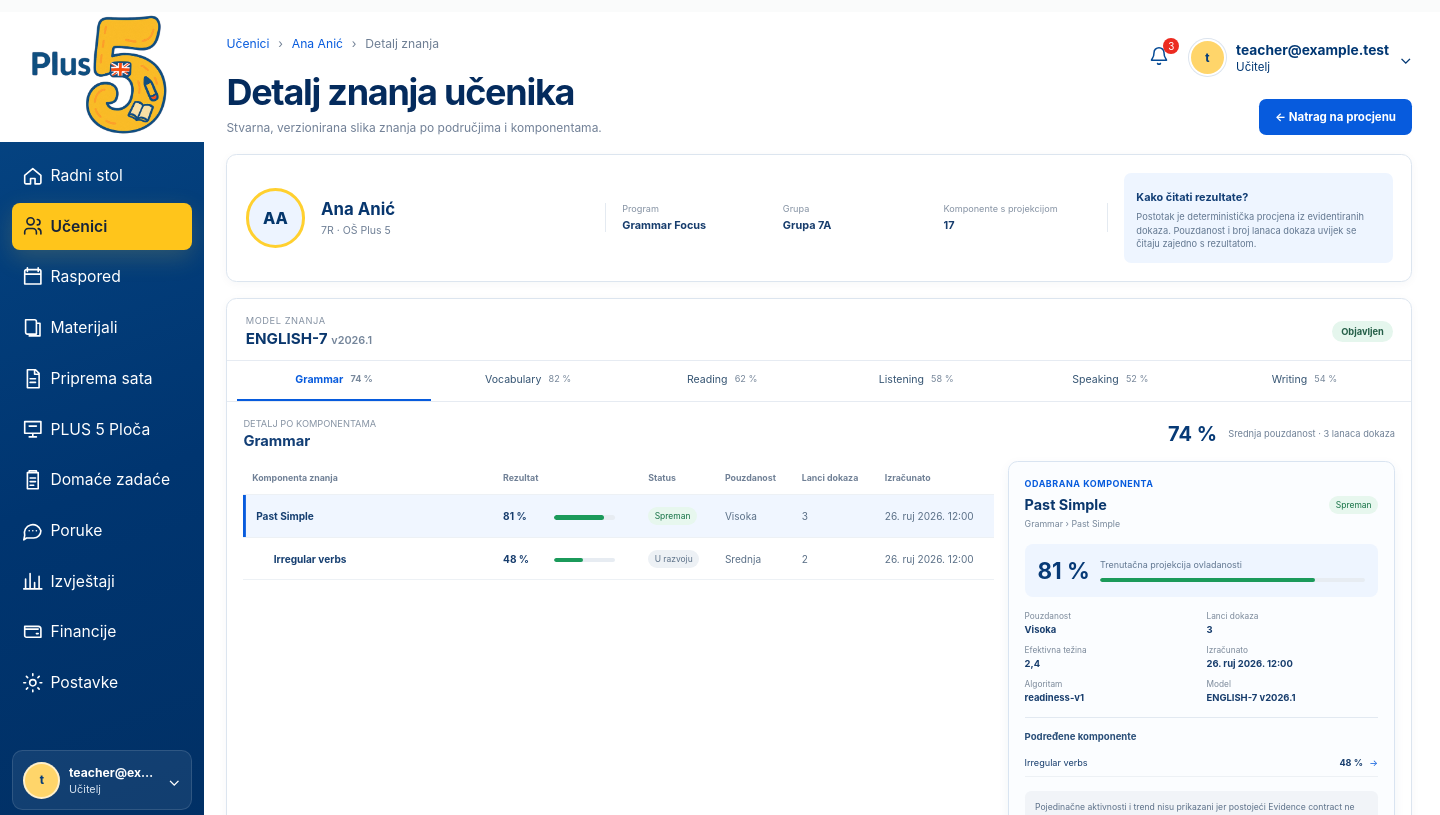
Test: student knowledge detail › keeps Listening skills distinct and does not invent audio context metadata
Expected: the heading "Detalj znanja učenika" is shown, [226,70,602,114]
Click the tab "Listening 58 %". click: (916, 381)
box: [819,361,1013,401]
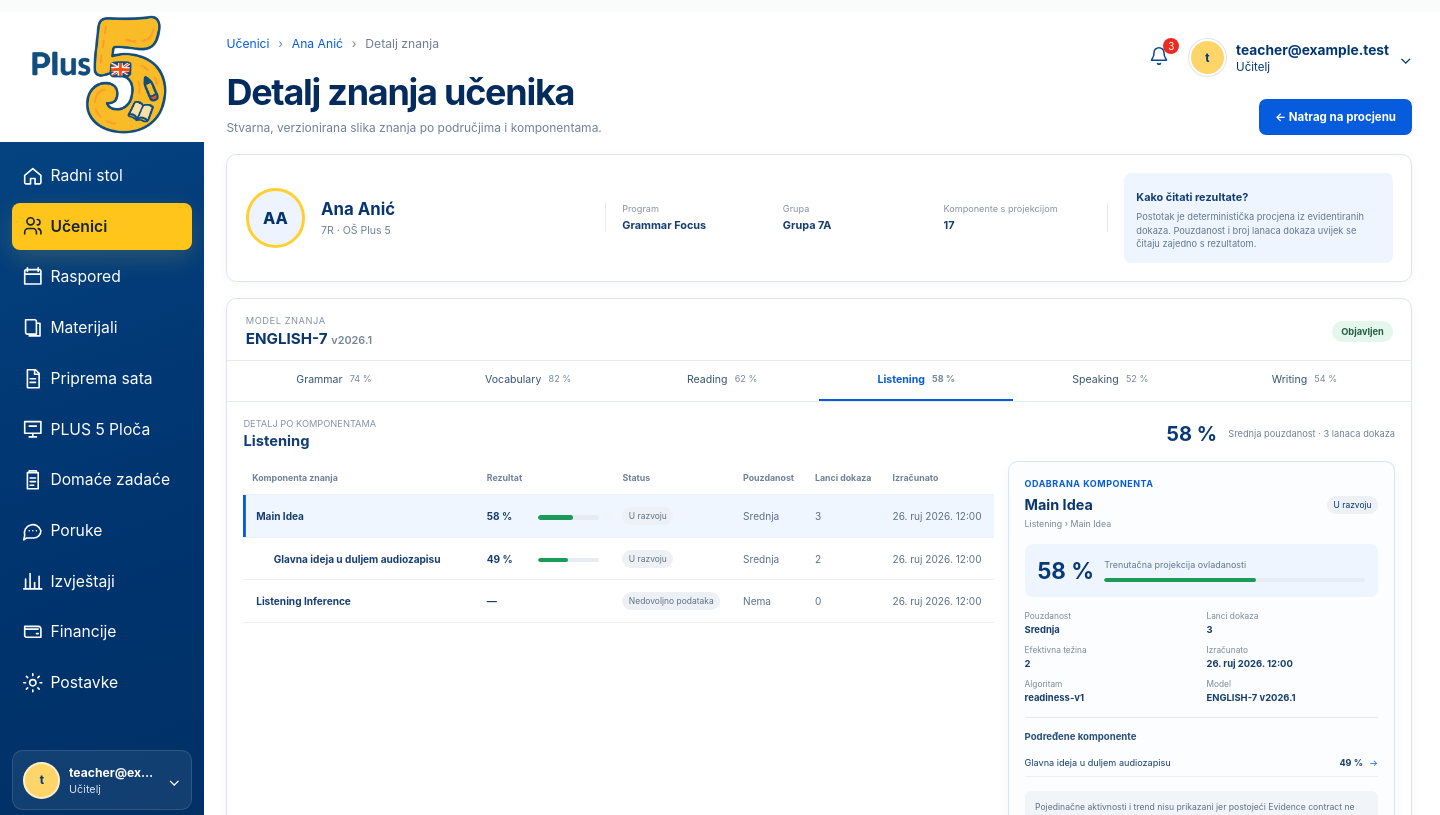
Now the heading "Main Idea" is shown, box [1025,496,1093,513]
Now the text "Listening › Main Idea" is shown, box [1025,518,1111,530]
Click the button "Glavna ideja u duljem audiozapisu 49 % →". click: (1098, 763)
box: [1025,749,1378,777]
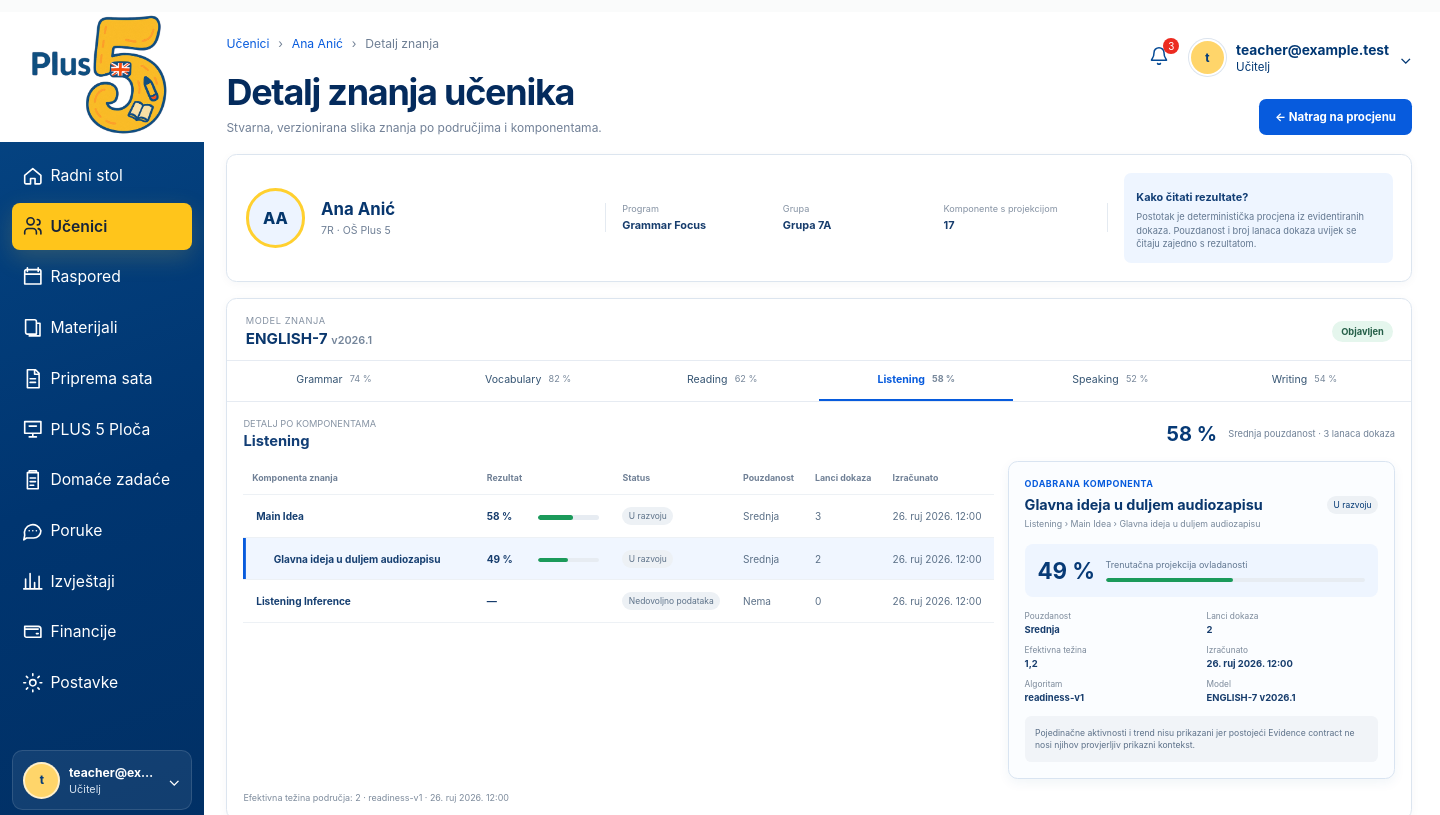
Now the text "Listening › Main Idea › Glavna ideja u duljem audiozapisu" is shown, box [1025,518,1263,530]
Click the button "Listening Inference". click: (304, 601)
box: [252,592,355,610]
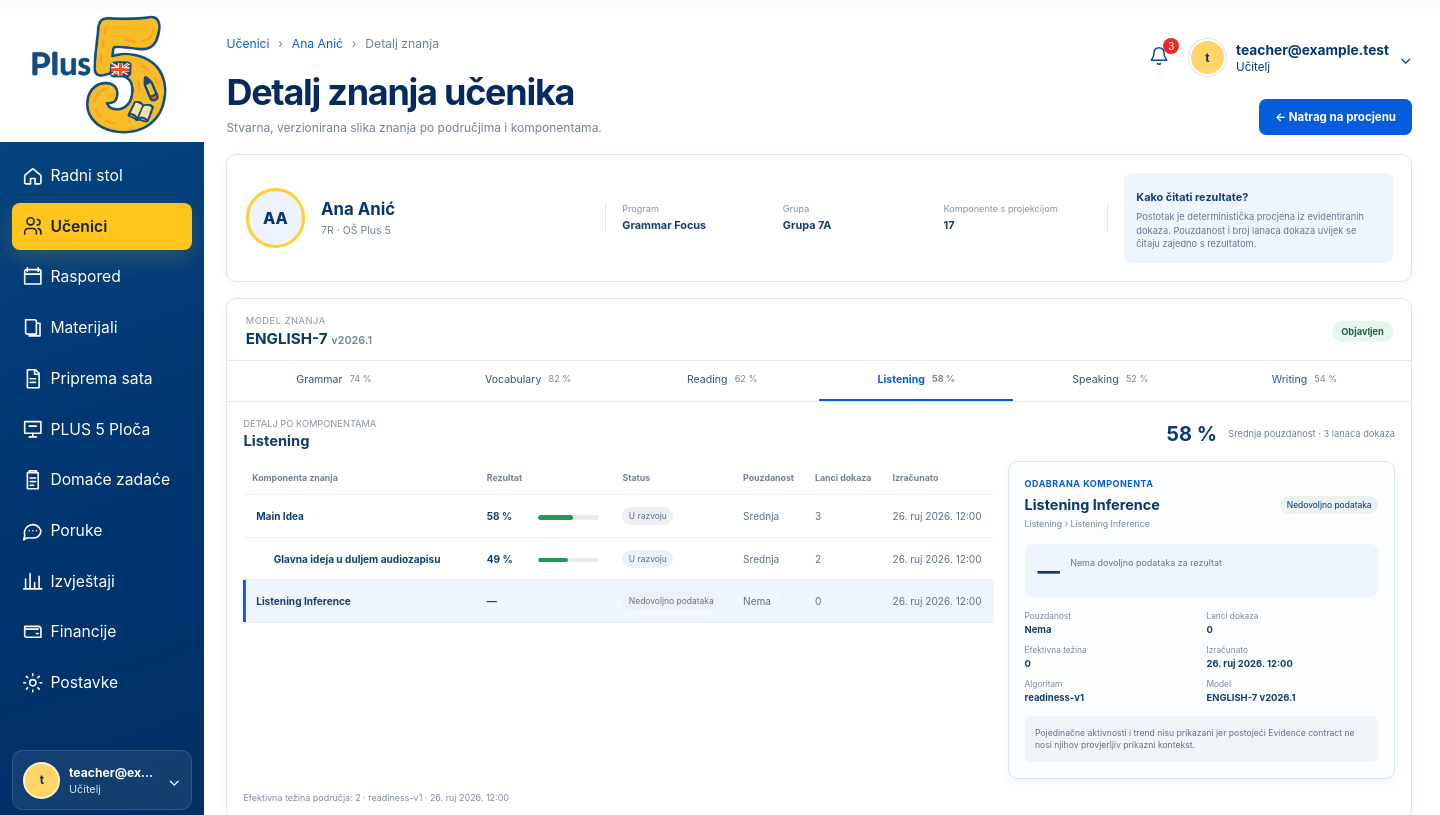
Now the element "Listening Inference" is shown, box [1008,461,1395,779]
Now the text "Nema dovoljno podataka za rezultat" is shown, box [1070,557,1222,568]
